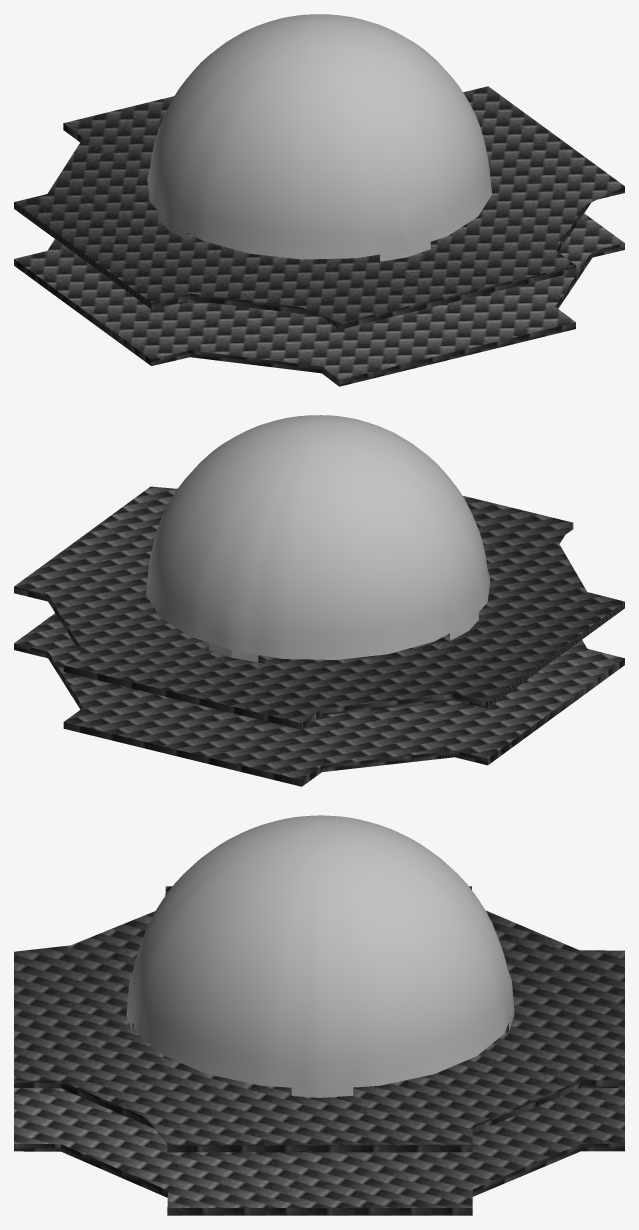
The model's file is center_module.fbx.
3 views of the same model, one above another, from view 1: azimuth 30°, elevation 25°; view 2: azimuth 150°, elevation 25°; view 3: azimuth 270°, elevation 25° (orthographic). The views are drawn at different scales.
Parts seen in each view (by area): view 1: pSphere13, pCube11, pCube7; view 2: pSphere13, pCube11, pCube7; view 3: pSphere13, pCube11, pCube7.
Boxes of the visible parts, x1,y1,x2,y2 form: pSphere13: [147, 14, 491, 261]; pCube11: [14, 86, 624, 329]; pCube7: [14, 213, 624, 386]; pSphere13: [146, 415, 490, 662]; pCube11: [14, 486, 624, 729]; pCube7: [14, 613, 624, 786]; pSphere13: [126, 815, 514, 1097]; pCube11: [14, 886, 624, 1152]; pCube7: [14, 1022, 624, 1215].
Size of the model in its own units: 0.08 by 0.0367 by 0.08.
